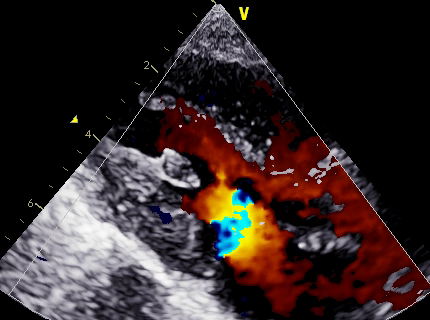AR: (193, 157, 319, 236)
